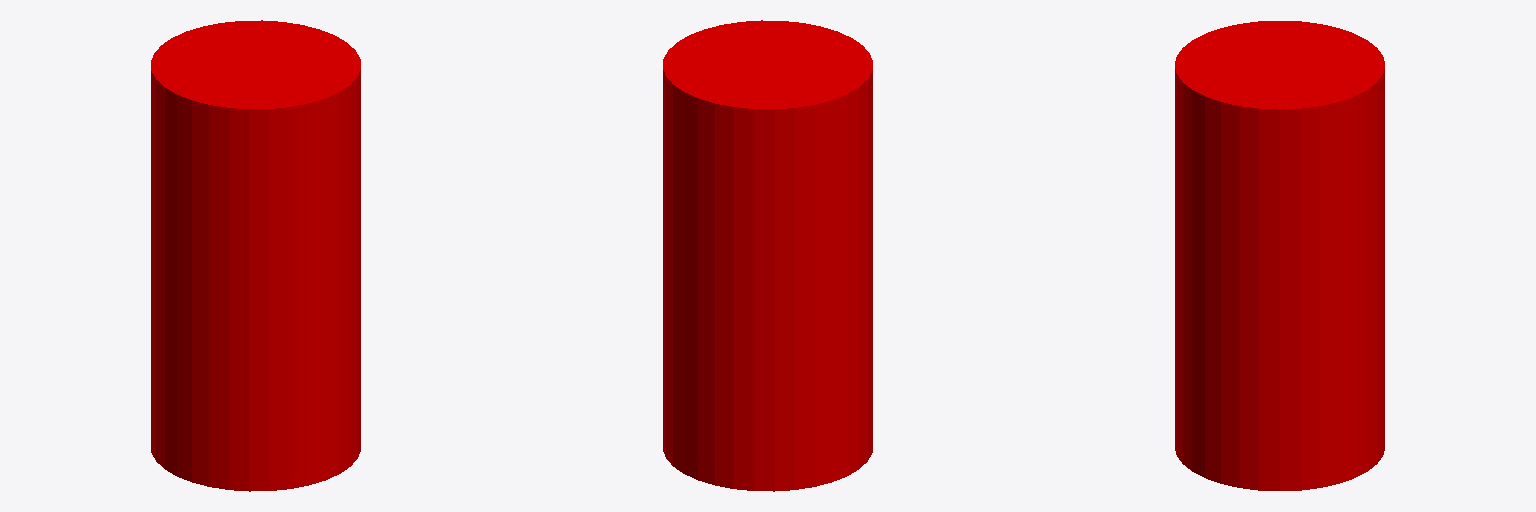
The robot description file, URDF, robot "simplegoal":
<?xml version="1.0"?> 
<robot name="simplegoal">
    <!-- Colors --> 
    <material name="red">
        <color rgba="0.925 0 0 1"/>
    </material>

    <!-- Goal -->
    <link name="base_link">
        <visual>
            <geometry>
                <cylinder radius="0.25" length="1"/>
                <origin rpy="0 0 0" xyz="0 0 0.5"/>
            </geometry>
            <material name="red"/>
        </visual>
        <!-- <collision> 
             <geometry> 
                <cylinder radius="0.25" length="0.5"/>
                <origin rpy="0 0 0" xyz="0 0 0.25"/>
            </geometry>
        </collision> --> 
        <inertial> 
            <mass value="0"/>
            <inertia ixx="0" ixy="0" ixz="0" iyy="0" iyz="0" izz="0"/>
        </inertial> 
    </link>
</robot>

--- Render facts (derived) ---
The picture shows the robot from 3 angles, left to right: view 1: azimuth 30°, elevation 25°; view 2: azimuth 150°, elevation 25°; view 3: azimuth 270°, elevation 25°; orthographic projection.
Model simplegoal with 1 links and 0 joints (none), rooted at base_link, posed every joint at zero.
Visible links, largest first — view 1: base_link; view 2: base_link; view 3: base_link.
Link boxes in pixels (x1,y1,x2,y2): base_link: [151, 20, 360, 491]; base_link: [663, 20, 872, 491]; base_link: [1175, 21, 1384, 490].
Size in the robot's own frame: 0.5 by 0.5 by 1 metres.
Geometry: primitives only (box / cylinder / sphere), no mesh files.